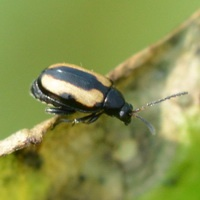insect: (31, 63, 141, 124)
